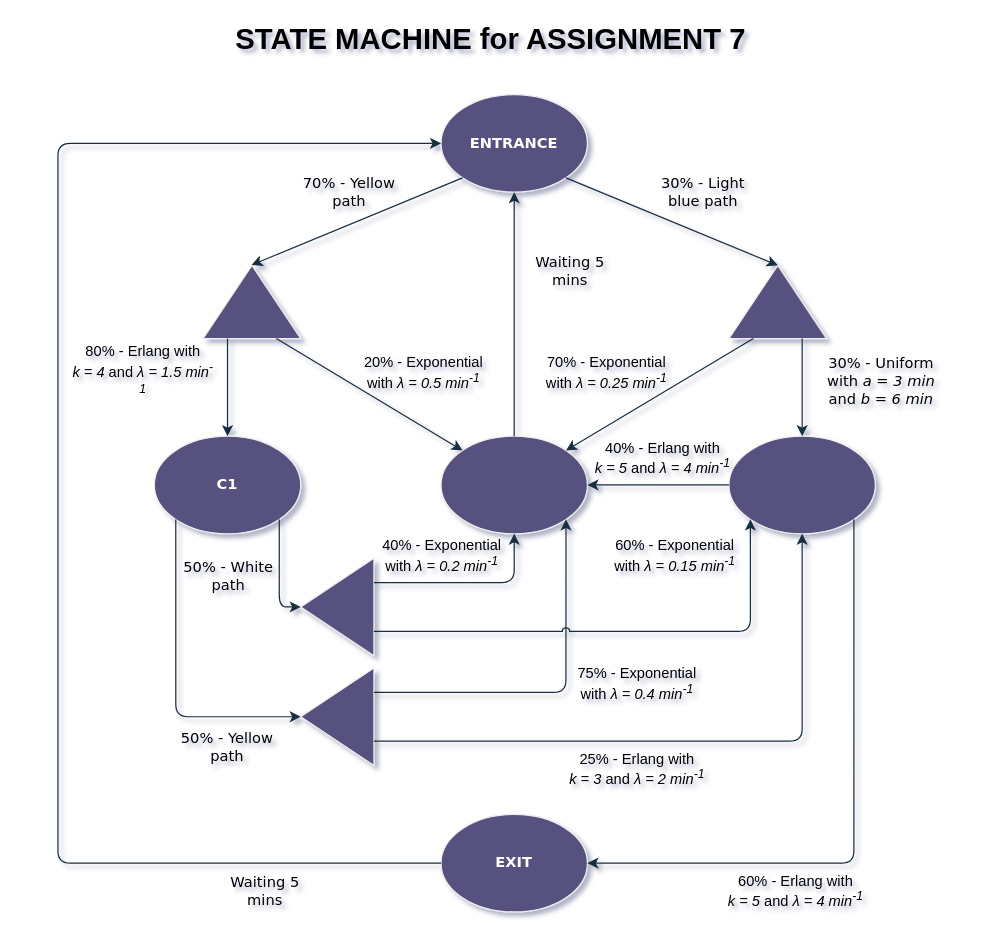
The diagram is 988 pixels wide and 946 high, and some of its shapes have lost their labels. The centre of each missing label's shape, as x and y in pixels:
C2: point (801, 484)
FALL DOWN: point (513, 484)
